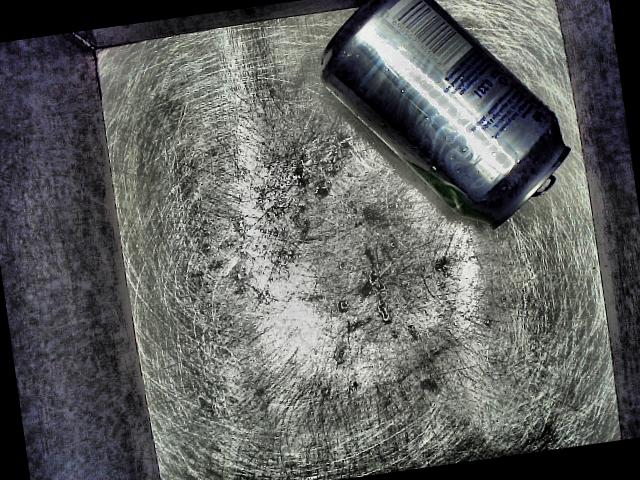Bottles: (302, 0, 590, 253)
